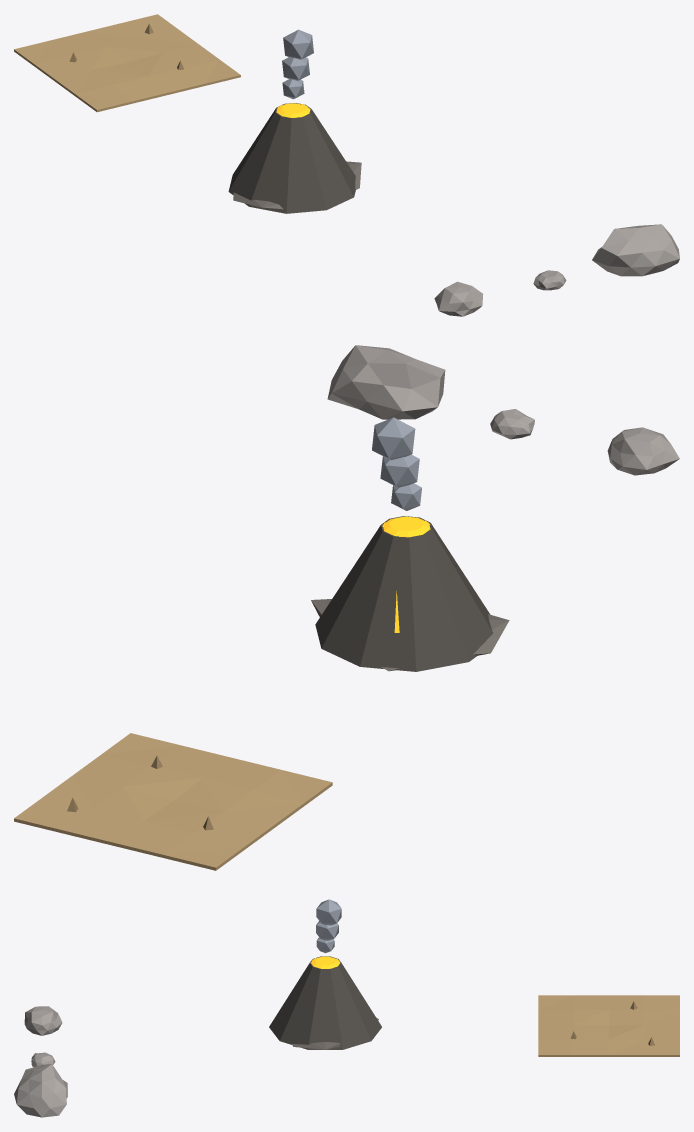
The model's file is kit_tebing_v001.glb.
3 renders of one model, top to bottom at view 1: azimuth 30°, elevation 25°; view 2: azimuth 150°, elevation 25°; view 3: azimuth 270°, elevation 25°, orthographic. The views are drawn at different scales.
Visible parts, largest first — view 1: lantai_tebing, Gunung_Api, Batu_Kapur_C, Batu_Kapur_A, Batu_Kapur_B; view 2: lantai_tebing, Gunung_Api, Batu_Kapur_C, Batu_Kapur_A, Batu_Kapur_B; view 3: lantai_tebing, Gunung_Api, Batu_Kapur_C, Batu_Kapur_A.
Part boxes in pixels (x1=…): lantai_tebing: x1=14, y1=14, x2=240, y2=112; Gunung_Api: x1=228, y1=29, x2=361, y2=213; Batu_Kapur_C: x1=592, y1=224, x2=679, y2=276; Batu_Kapur_A: x1=434, y1=281, x2=483, y2=316; Batu_Kapur_B: x1=533, y1=270, x2=566, y2=290; lantai_tebing: x1=14, y1=733, x2=332, y2=870; Gunung_Api: x1=311, y1=417, x2=509, y2=671; Batu_Kapur_C: x1=327, y1=345, x2=445, y2=419; Batu_Kapur_A: x1=607, y1=427, x2=679, y2=475; Batu_Kapur_B: x1=490, y1=409, x2=534, y2=439; lantai_tebing: x1=538, y1=995, x2=679, y2=1056; Gunung_Api: x1=269, y1=899, x2=381, y2=1049; Batu_Kapur_C: x1=14, y1=1064, x2=67, y2=1117; Batu_Kapur_A: x1=24, y1=1006, x2=62, y2=1035.
Size of the model in its own units: 8.04 by 4.07 by 18.79.
